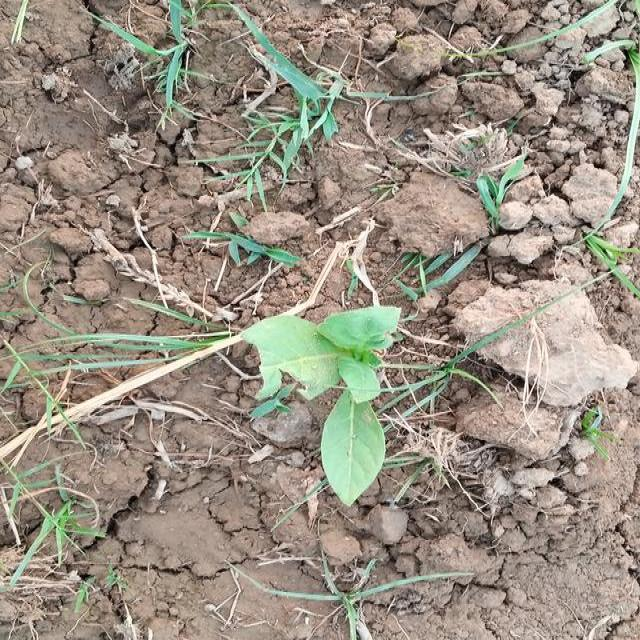crop: (249, 303, 400, 498)
